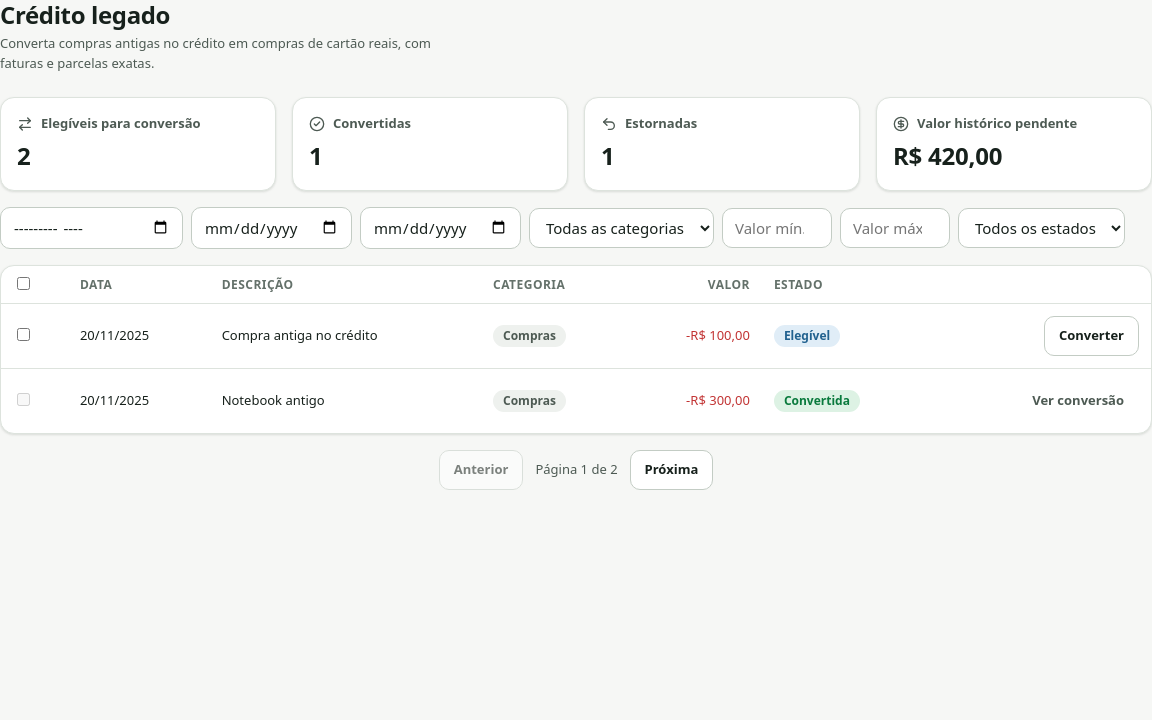
Scenario: LegacyConversionWizard › blocks confirmation while the preview reports blockers
Check: the text "Compra antiga no crédito" is shown, box [222,326,378,344]
Click the button "Converter" at {"x": 1091, "y": 336}, box [1044,316,1139,356]
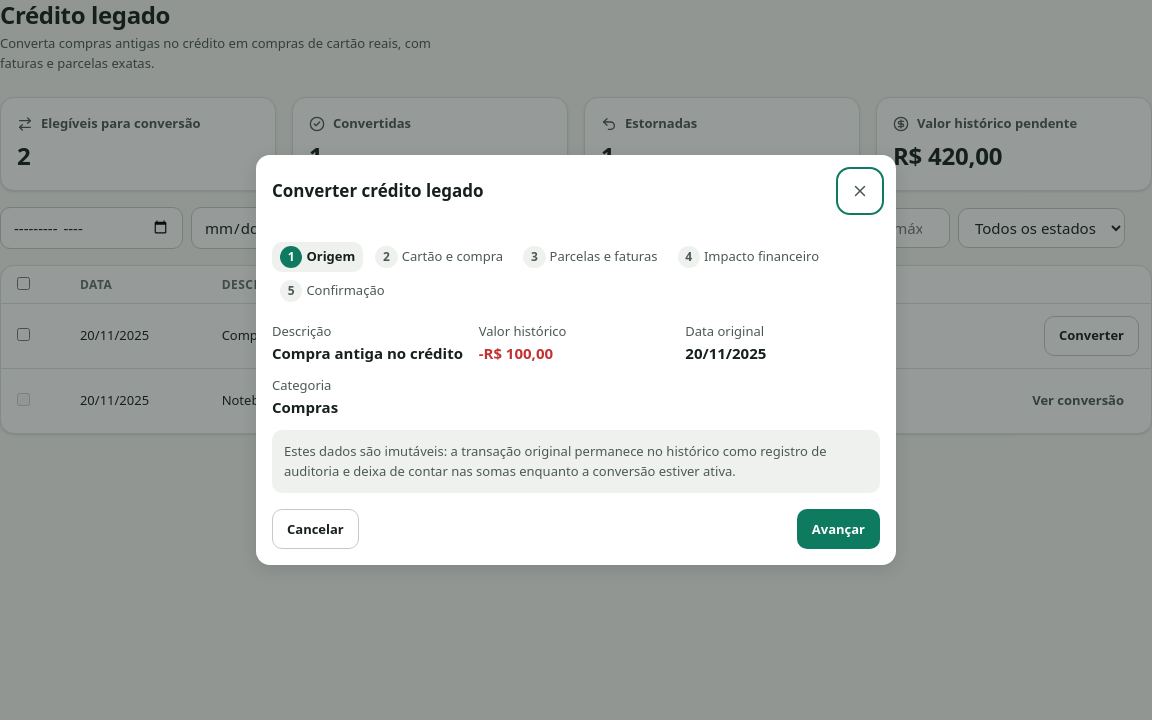
Click the button "Avançar" at {"x": 838, "y": 529}, box [797,509,880,549]
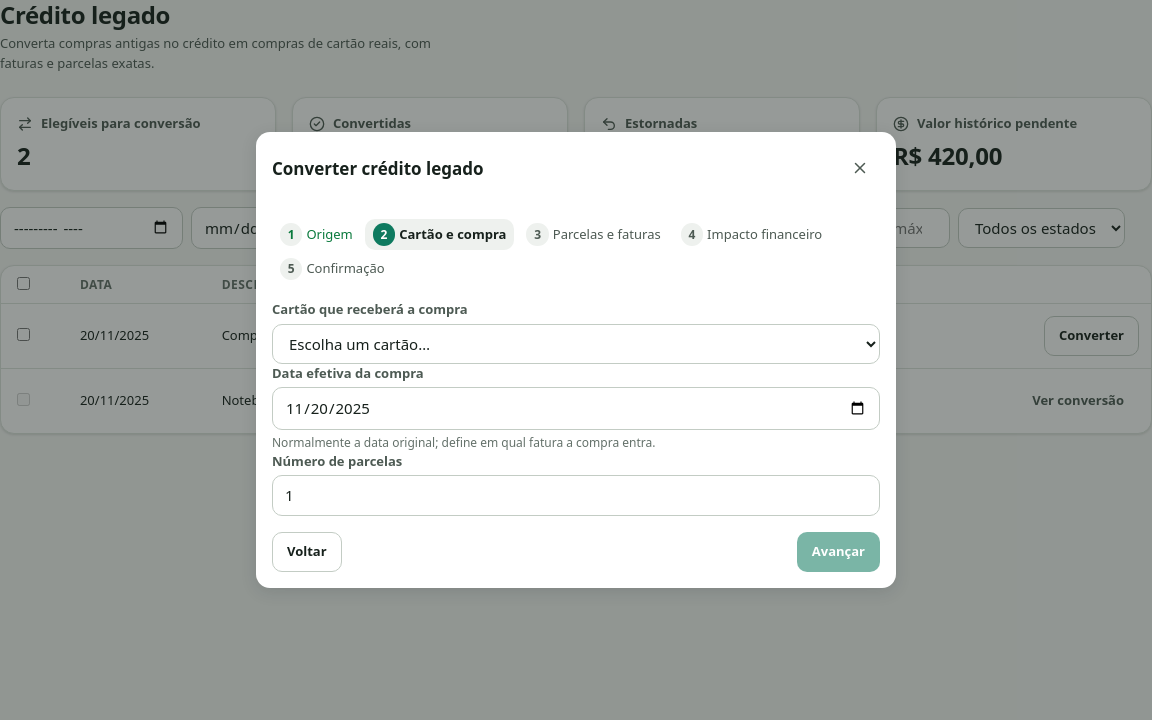
Select "Cartão Roxo — limite disponível R$ 10.000,00" in the dropdown labelled "Cartão que receberá a compra" at {"x": 576, "y": 344}, box [272,324,880,364]
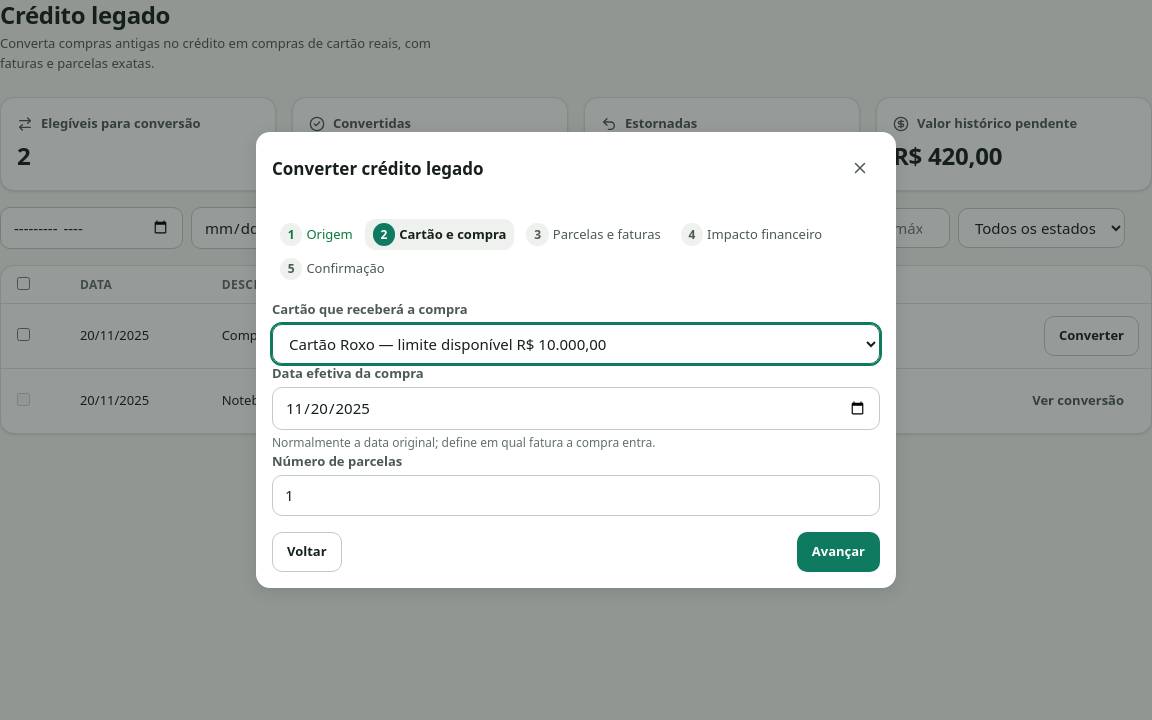
Click the button "Avançar" at {"x": 838, "y": 552}, box [797,532,880,572]
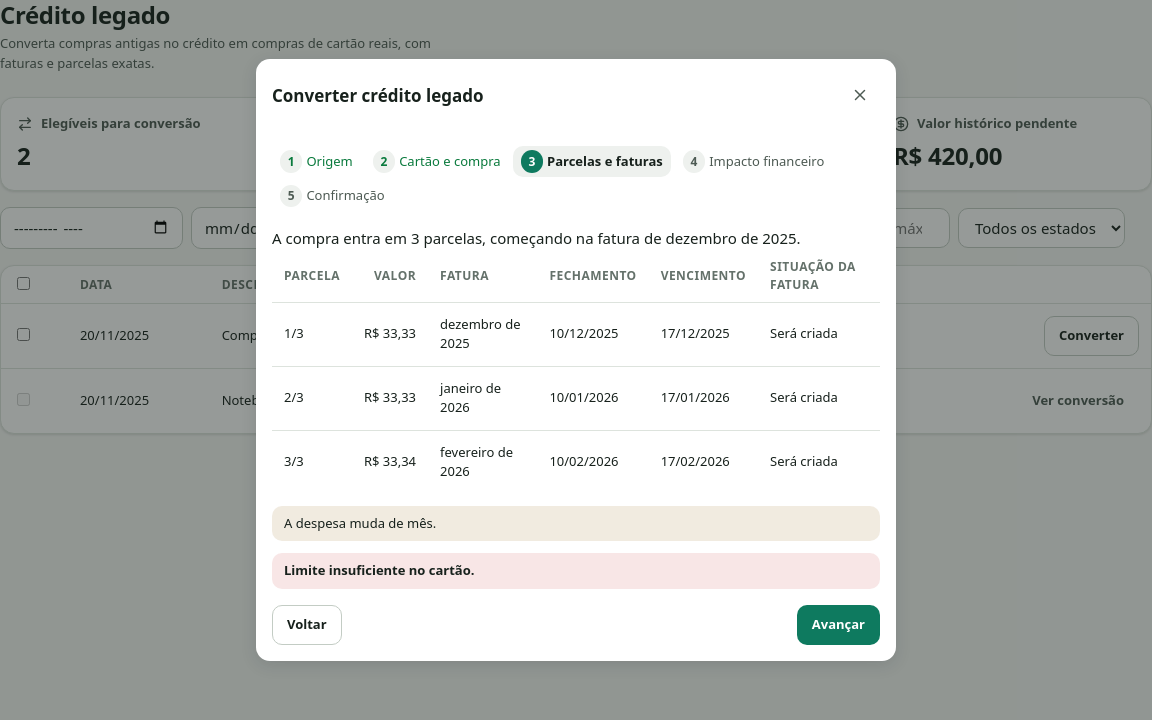
Check: the list item "Limite insuficiente no cartão." is shown, box [284,561,474,579]
Click the button "Avançar" at {"x": 838, "y": 625}, box [797,605,880,645]
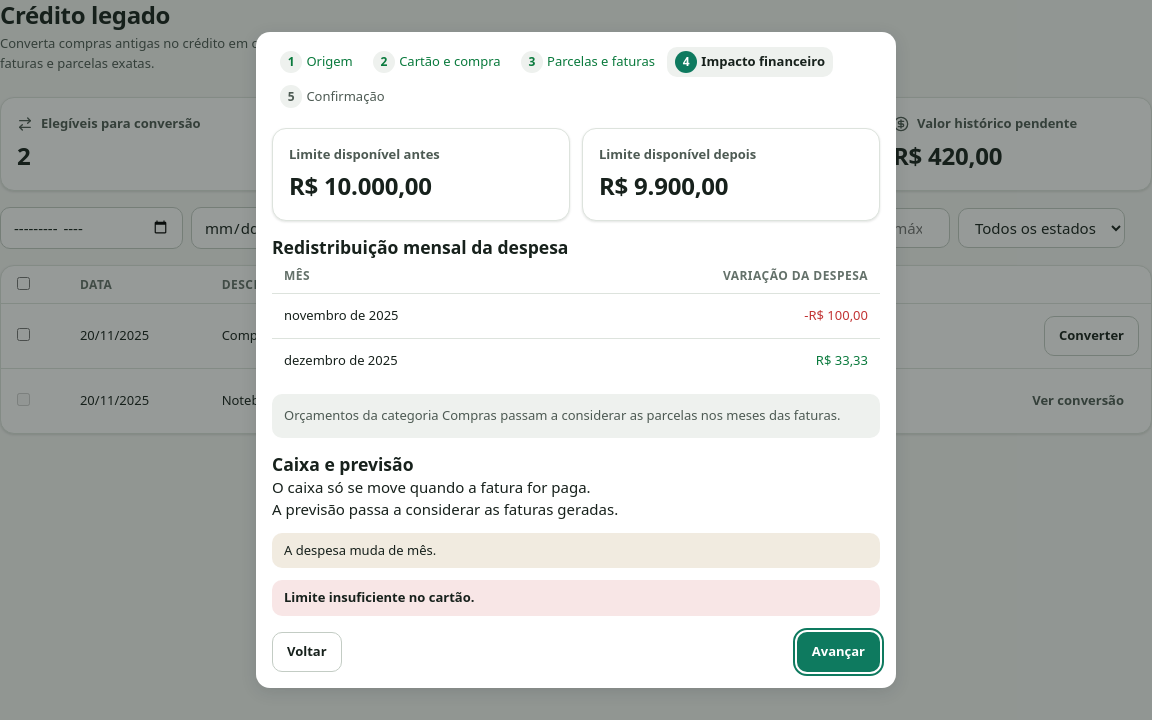
Check: the text "Limite disponível antes" is shown, box [289,145,440,163]
Click the button "Avançar" at {"x": 838, "y": 652}, box [797,632,880,672]
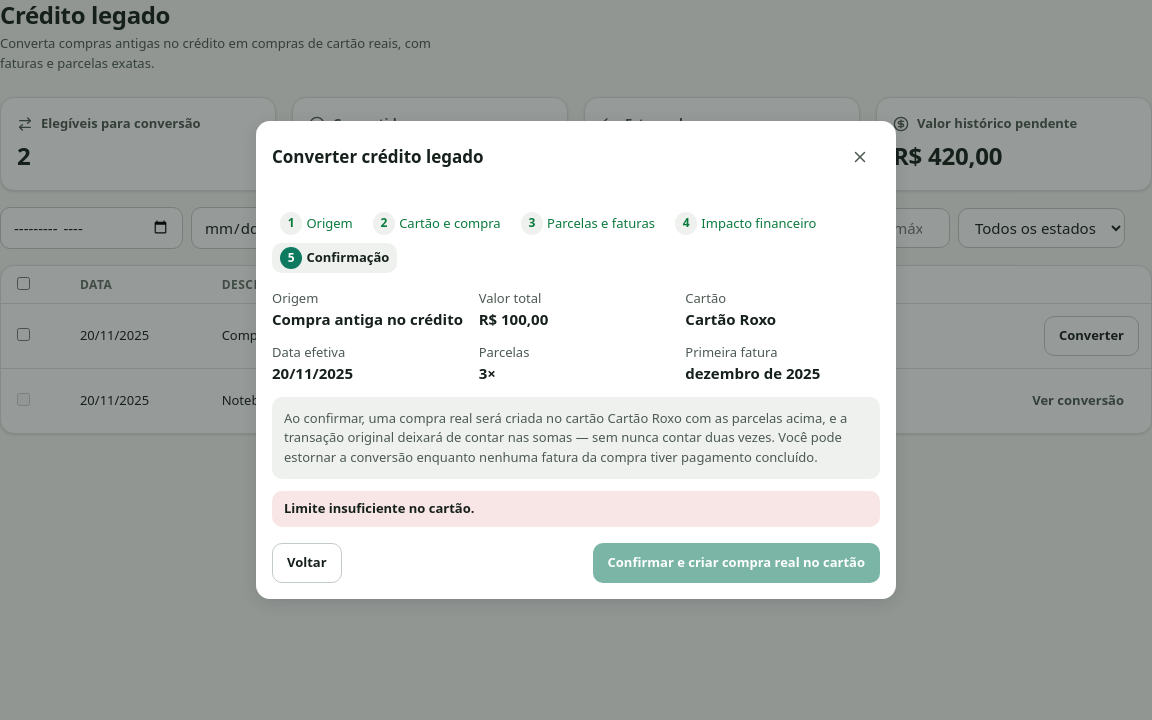
Check: the button "Confirmar e criar compra real no cartão" is disabled, box [592,543,880,583]
